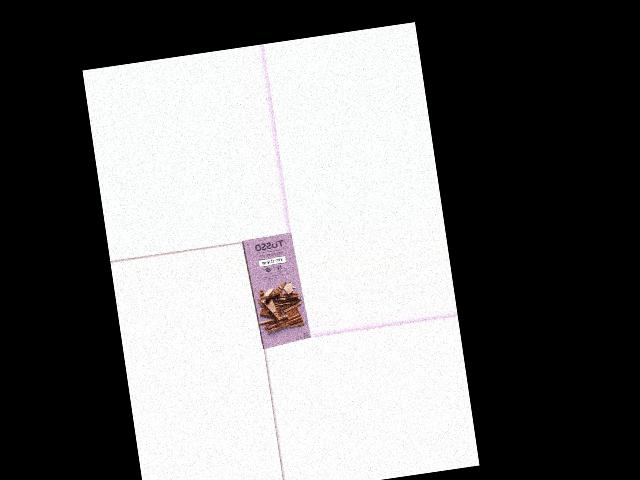chocolate: (245, 234, 308, 349)
